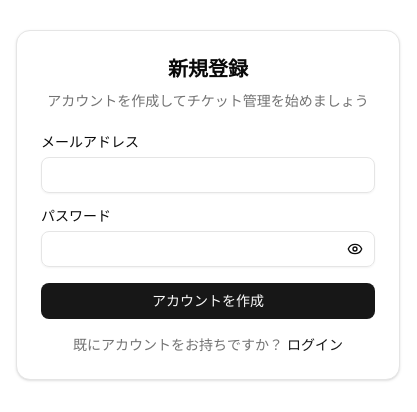
SignupPage › パスワードが8バイト未満の場合にエラーを表示する
Expected: the heading "新規登録" is shown, [168,58,248,80]
Type "new@example.com" into the field labelled "メールアドレス" at [208, 175], box [41,157,375,193]
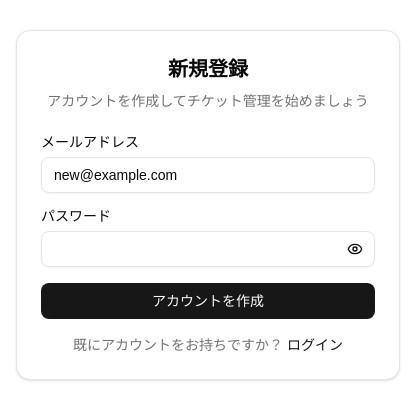
Type "short" into the password field labelled "パスワード" at [208, 249], box [41,231,375,267]
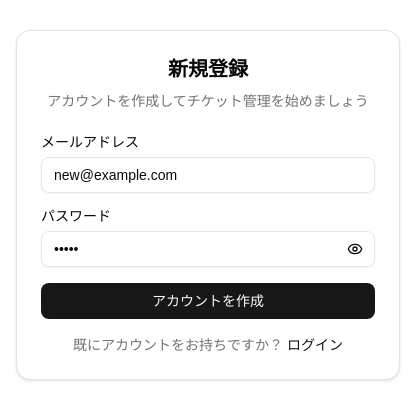
Click the button "アカウントを作成" at [208, 301], box [41,283,375,319]
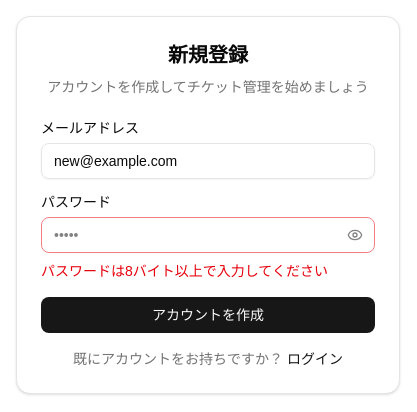
Now the text "パスワードは8バイト以上で入力してください" is shown, box [41,261,375,281]
